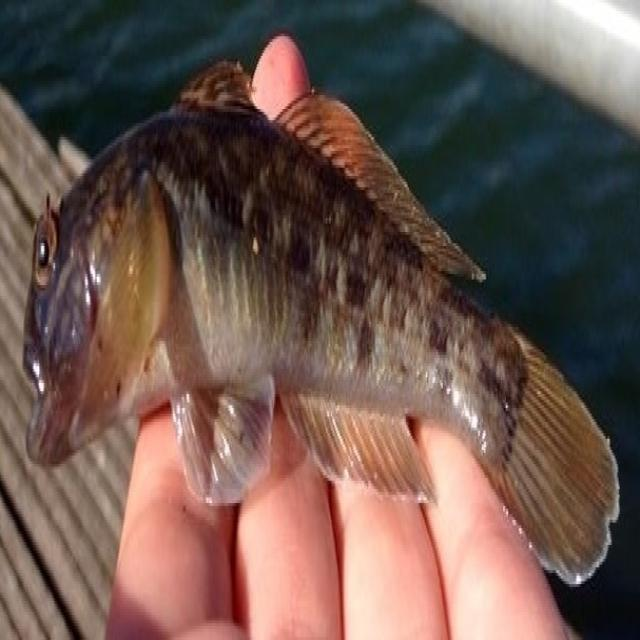Goby: (0, 28, 640, 619)
